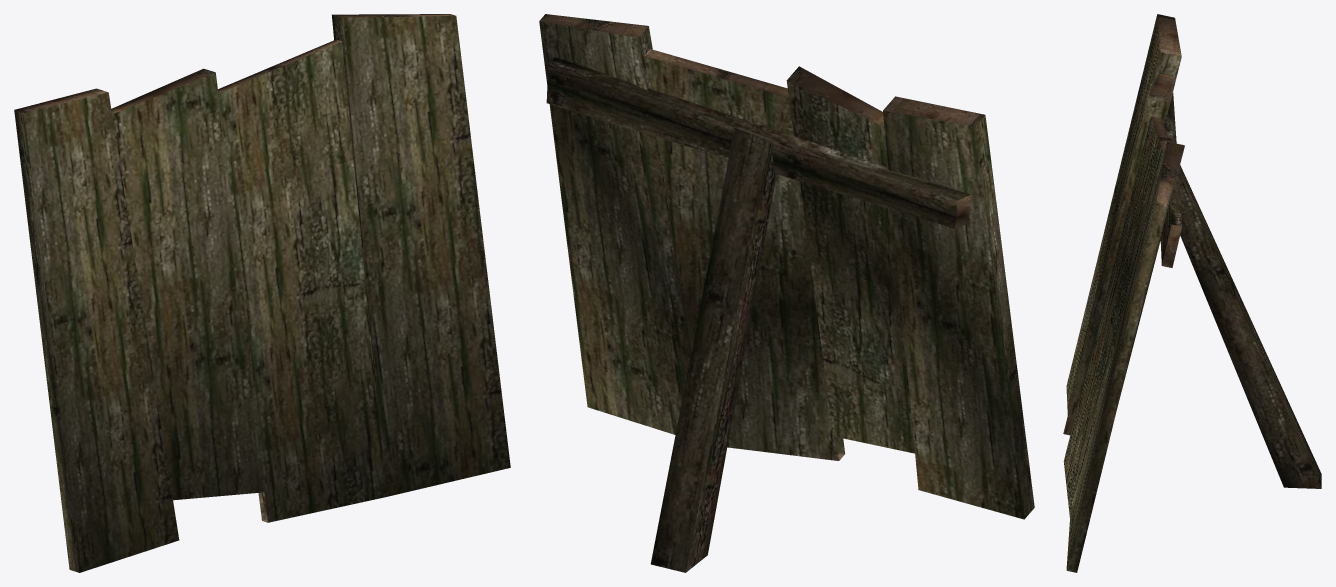
File: OW_PALISSADE.glb
The picture shows the model from 3 angles, left to right: view 1: azimuth 30°, elevation 25°; view 2: azimuth 150°, elevation 25°; view 3: azimuth 270°, elevation 25°; orthographic projection. The views are drawn at different scales.
Visible parts, largest first — view 1: Mesh; view 2: Mesh; view 3: Mesh.
Boxes of the visible parts, x1,y1,x2,y2 form: Mesh: (14,14,510,572); Mesh: (539,14,1034,572); Mesh: (1063,14,1321,572).
Bounding box in the file's own units: 4.84 × 4.68 × 2.84.
3 materials, 3 textured.
